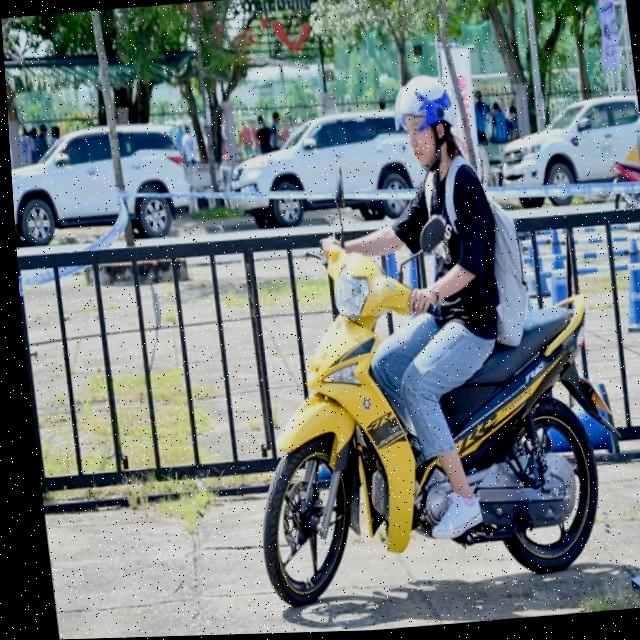car: (216, 103, 435, 248), (8, 114, 215, 263), (487, 86, 640, 217)
motorcycle: (219, 205, 640, 614)
